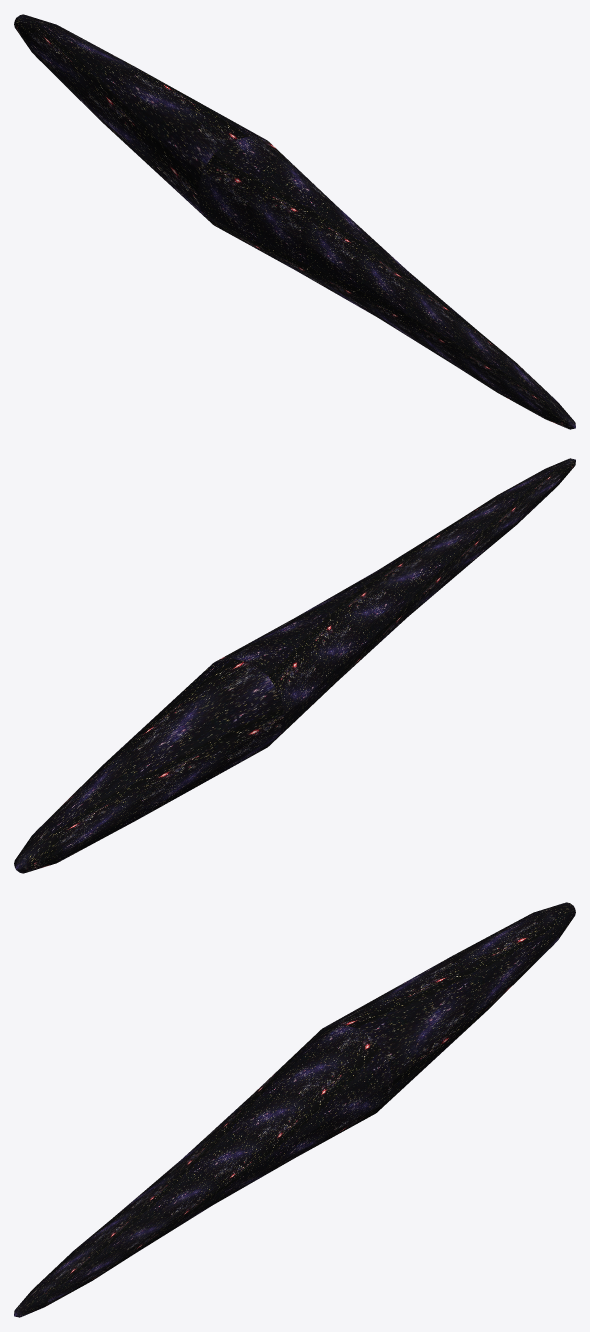
The model's file is WarpStone WarpTunnel.obj.
The picture shows the model from 3 angles, top to bottom: view 1: azimuth 30°, elevation 25°; view 2: azimuth 150°, elevation 25°; view 3: azimuth 330°, elevation 25°; orthographic projection.
Visible parts, largest first — view 1: MODELS_bin_008:poly000; view 2: MODELS_bin_008:poly000; view 3: MODELS_bin_008:poly000.
Boxes of the visible parts, x1,y1,x2,y2 form: MODELS_bin_008:poly000: (14,14,575,429); MODELS_bin_008:poly000: (14,458,575,873); MODELS_bin_008:poly000: (14,902,575,1317).
Bounding box in the file's own units: 152 × 148 × 1691.
1 material, 1 textured.
